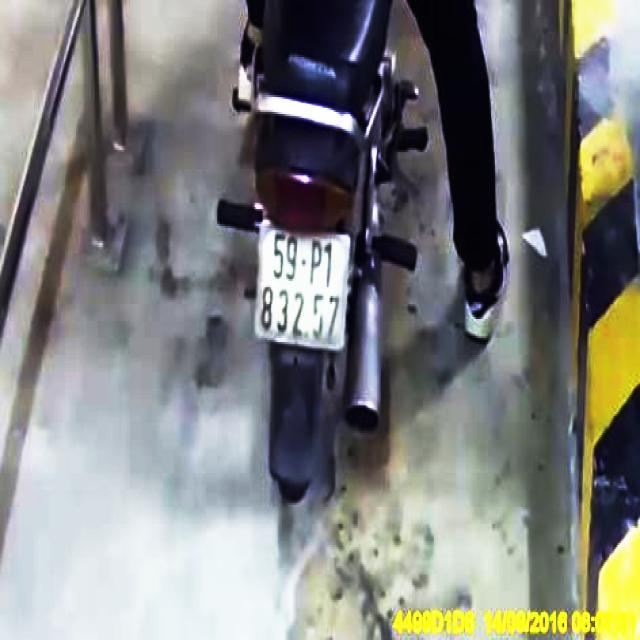license_plate: (258, 223, 352, 353)
